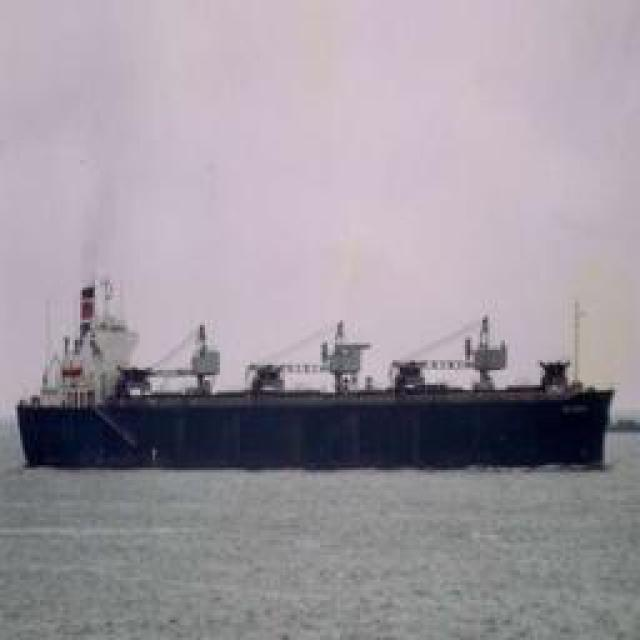Ship: (22, 297, 625, 470)
